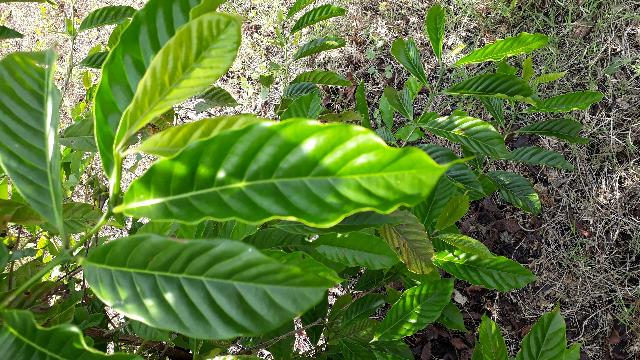healthy: (123, 122, 460, 225)
